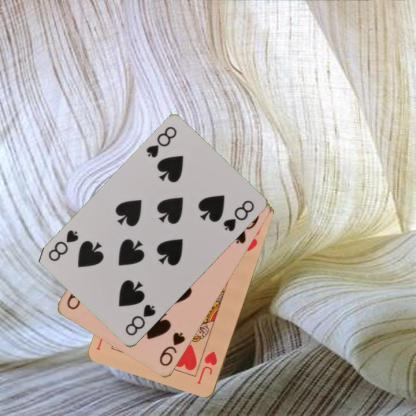8s: (123, 302, 157, 338), (144, 124, 178, 160)
9s: (156, 329, 186, 368)
Jh: (194, 349, 219, 386)
